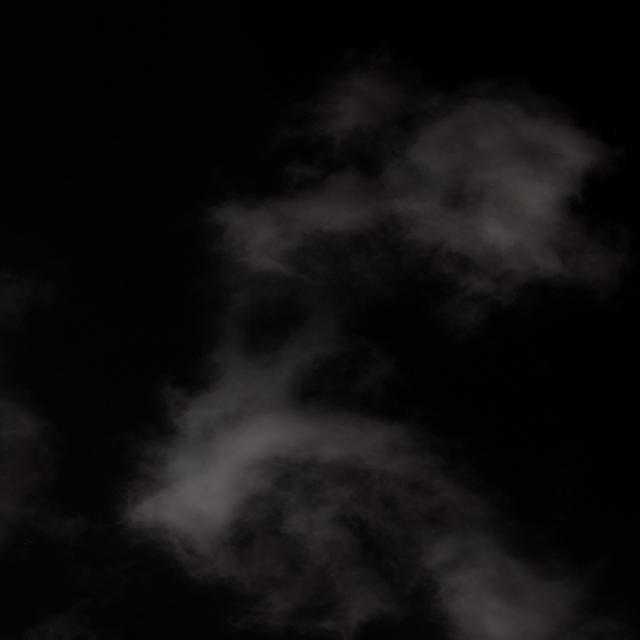Other Ship: (23, 539, 35, 547)
